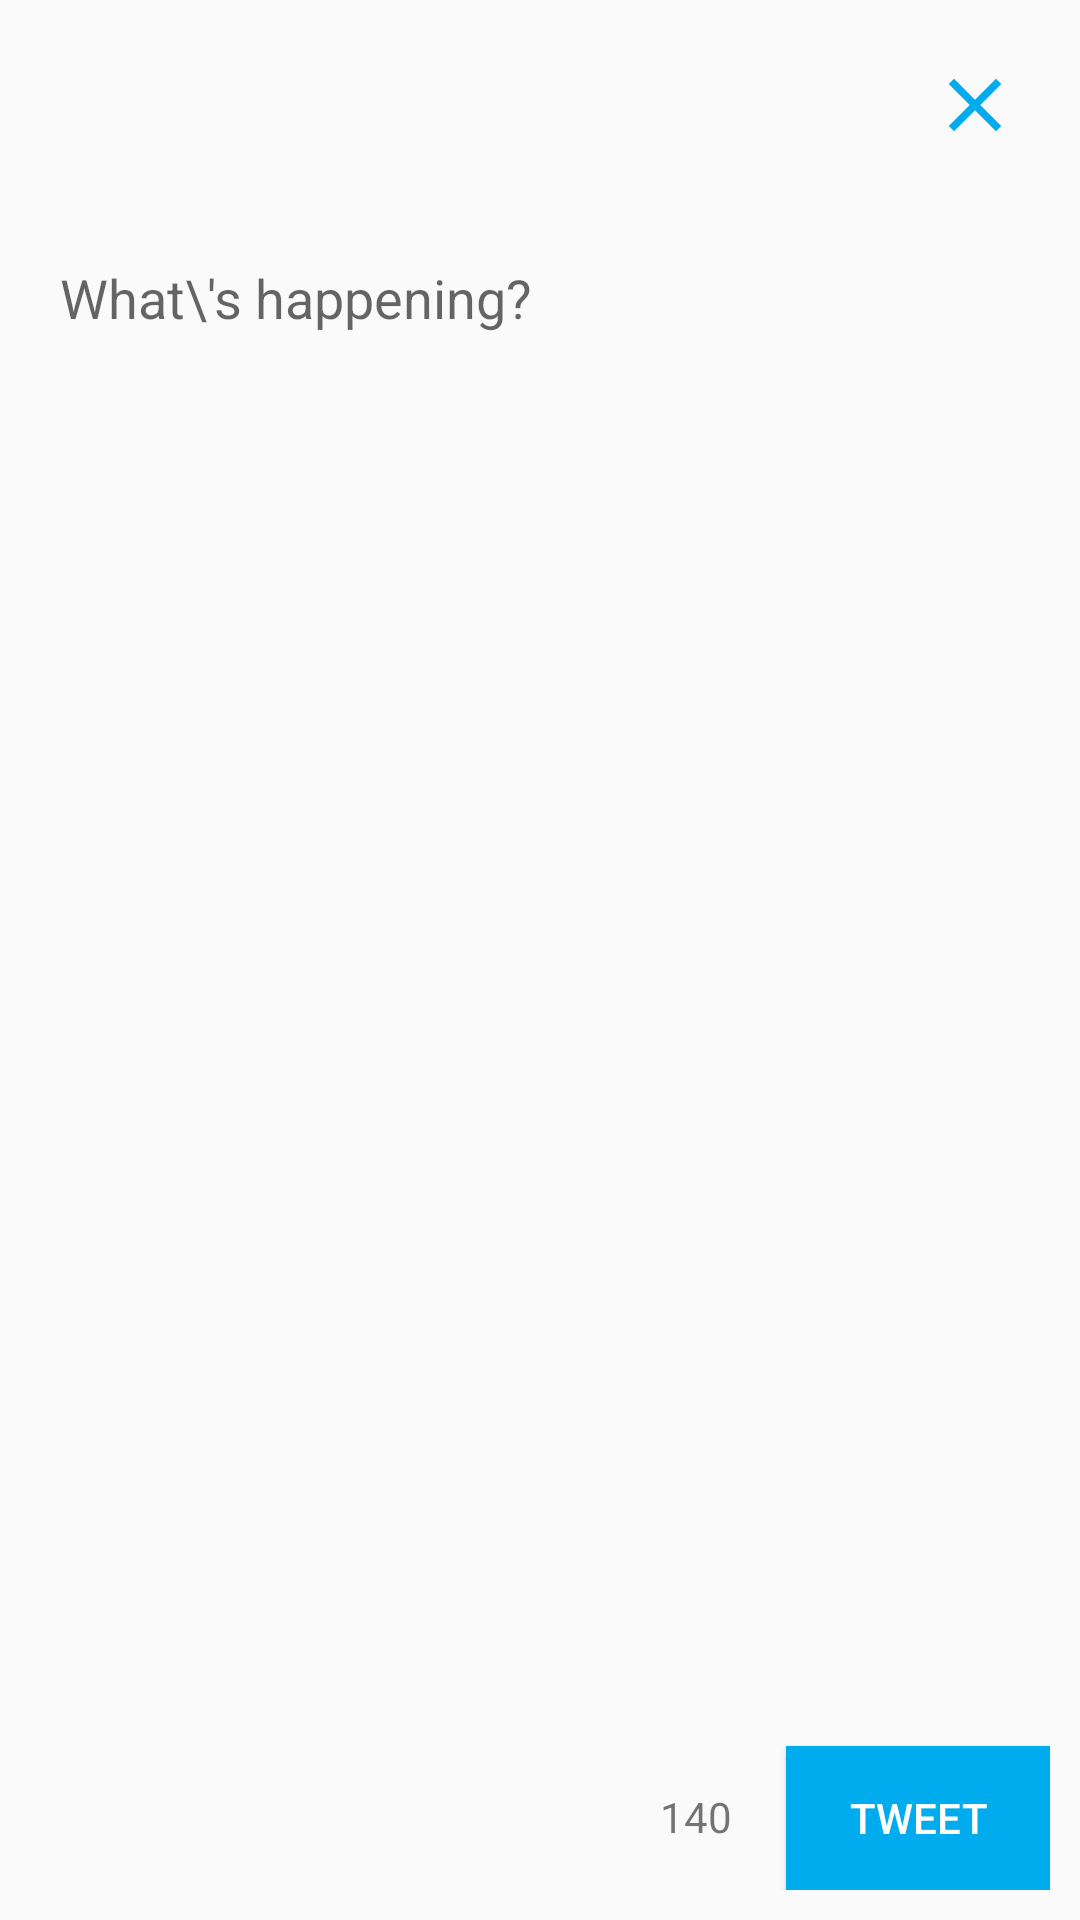

Named icons in this screenshot (1080w x 1920h) and their bounding boxes, (x1, y1, x2, y2):
close: (949, 79, 1001, 131)
